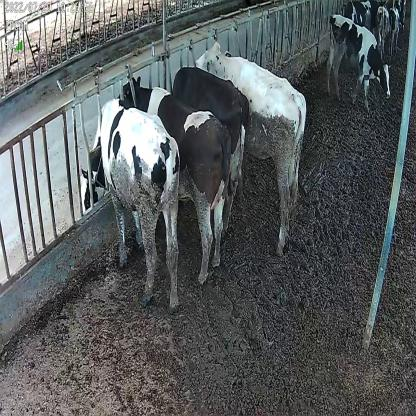cow: (116, 70, 230, 289), (196, 41, 308, 258), (77, 97, 182, 312), (172, 61, 250, 244), (324, 11, 392, 113)
